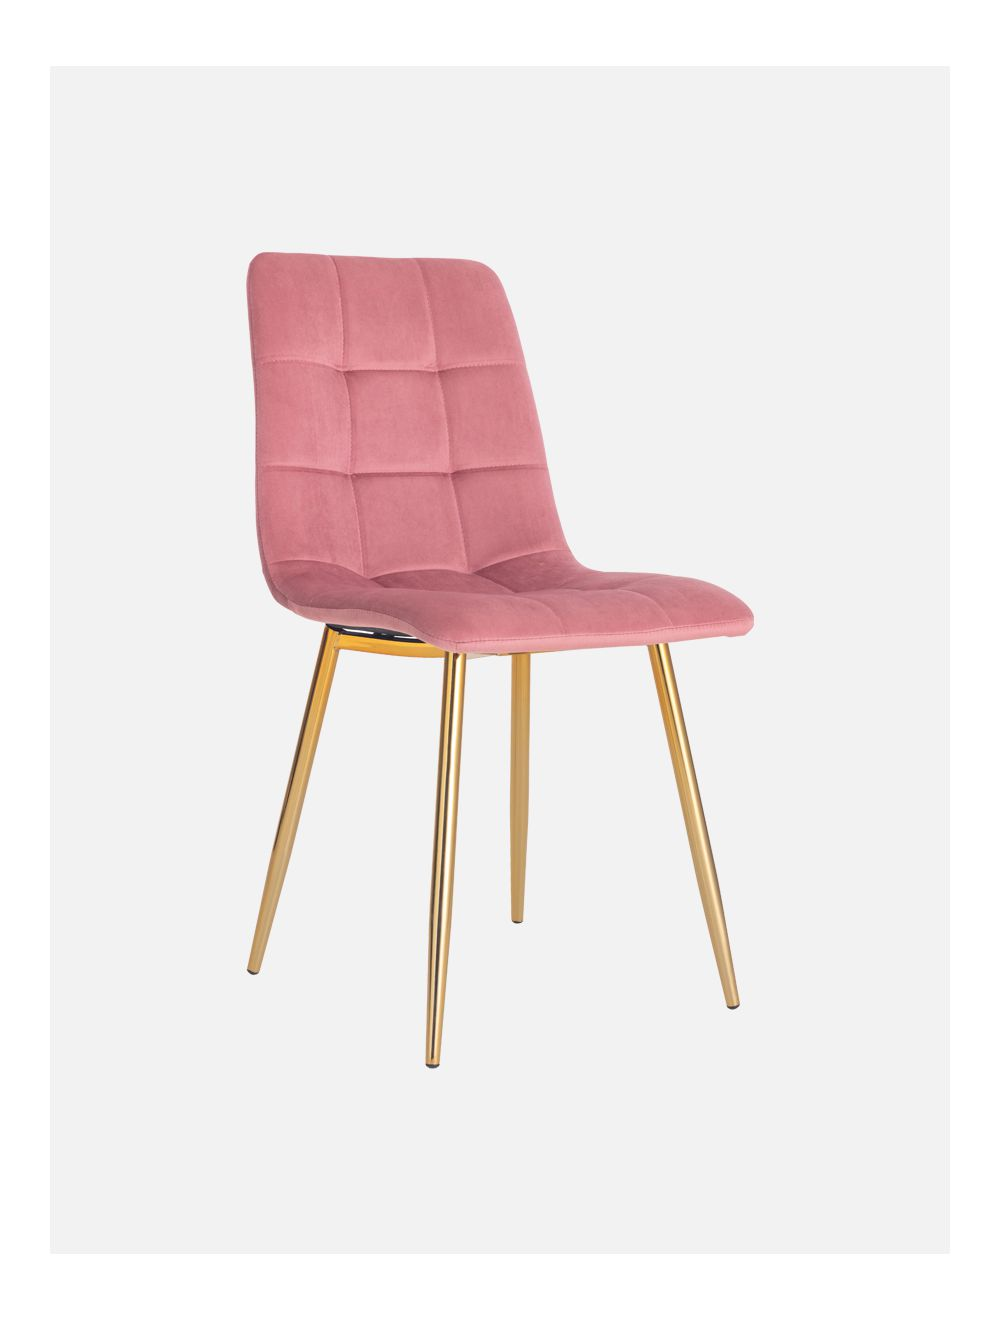kursi: (173, 210, 813, 1078)
